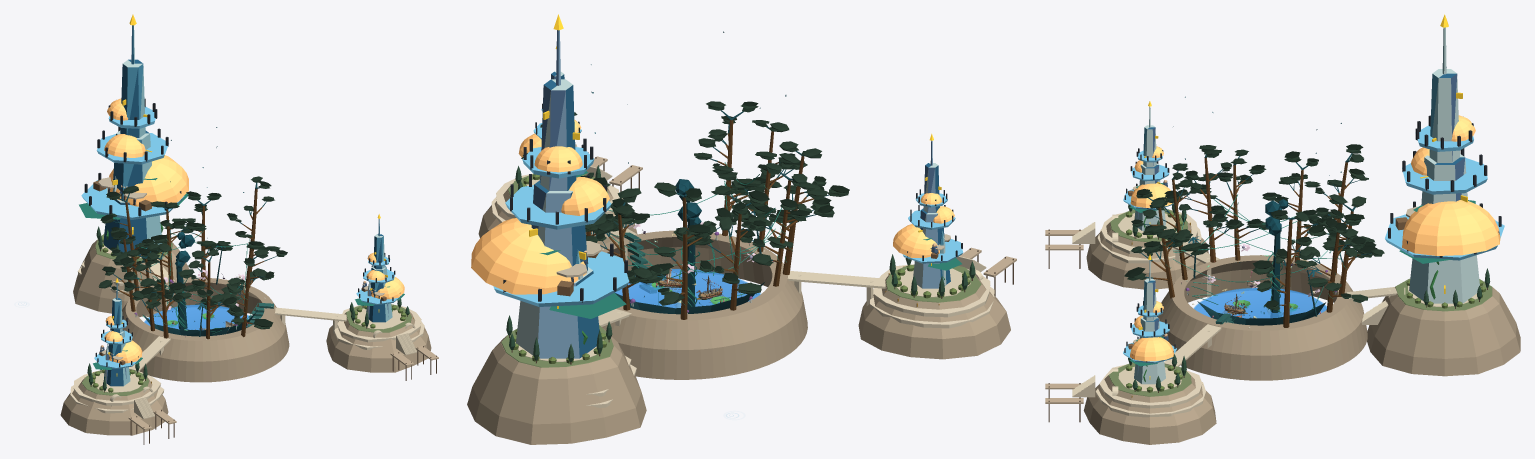
The model's file is crystal-v7-r03.glb.
3 renders of one model, left to right at view 1: azimuth 30°, elevation 25°; view 2: azimuth 150°, elevation 25°; view 3: azimuth 270°, elevation 25°, orthographic. The views are drawn at different scales.
Visible parts, largest first — view 1: swamp-outer-embankment, moebius-grand-community-tower, bank-rock-1, bank-rock-2, bank-rock-0, neon-dome-shell, swamp-towering-tree, swamp-towering-tree.001, swamp-towering-tree.002, swamp-underground-waterline, swamp-towering-tree.003, crystal-view-platform (+24 smaller); view 2: swamp-outer-embankment, bank-rock-0, moebius-grand-community-tower, bank-rock-1, neon-dome-shell, swamp-towering-tree.005, swamp-towering-tree.003, crystal-view-platform, swamp-towering-tree.004, swamp-towering-tree, swamp-towering-tree.006, swamp-towering-tree.002 (+20 smaller); view 3: swamp-outer-embankment, bank-rock-0, moebius-grand-community-tower, bank-rock-2, neon-dome-shell, bank-rock-1, swamp-underground-waterline, swamp-towering-tree.008, swamp-towering-tree, swamp-towering-tree.007, swamp-towering-tree.006, swamp-towering-tree.003 (+23 smaller).
Boxes of the visible parts, box(x1,y1,x2,y2) form: swamp-outer-embankment: box(122, 277, 289, 382); moebius-grand-community-tower: box(79, 14, 188, 255); bank-rock-1: box(60, 377, 168, 435); bank-rock-2: box(326, 312, 431, 372); bank-rock-0: box(73, 239, 191, 316); neon-dome-shell: box(107, 155, 188, 206); swamp-towering-tree: box(220, 249, 274, 337); swamp-towering-tree.001: box(178, 249, 239, 339); swamp-towering-tree.002: box(135, 243, 196, 338); swamp-underground-waterline: box(144, 304, 252, 330); swamp-towering-tree.003: box(120, 243, 185, 331); crystal-view-platform: box(81, 180, 184, 219); swamp-outer-embankment: box(600, 230, 807, 379); bank-rock-0: box(467, 327, 646, 444); moebius-grand-community-tower: box(516, 14, 626, 358); bank-rock-1: box(858, 273, 1010, 359); neon-dome-shell: box(471, 218, 586, 294); swamp-towering-tree.005: box(633, 182, 732, 319); swamp-towering-tree.003: box(735, 163, 834, 286); crystal-view-platform: box(493, 251, 629, 306); swamp-towering-tree.004: box(690, 190, 772, 310); swamp-towering-tree: box(694, 101, 781, 236); swamp-towering-tree.006: box(586, 188, 673, 310); swamp-towering-tree.002: box(741, 141, 849, 274); swamp-outer-embankment: box(1158, 255, 1367, 380); bank-rock-0: box(1367, 287, 1520, 376); moebius-grand-community-tower: box(1399, 14, 1479, 303); bank-rock-2: box(1083, 375, 1216, 444); neon-dome-shell: box(1402, 200, 1500, 255); bank-rock-1: box(1086, 222, 1208, 289); swamp-underground-waterline: box(1194, 287, 1326, 318); swamp-towering-tree.008: box(1252, 210, 1317, 327); swamp-towering-tree: box(1124, 189, 1192, 298); swamp-towering-tree.007: box(1295, 213, 1367, 312); swamp-towering-tree.006: box(1308, 194, 1384, 295); swamp-towering-tree.003: box(1196, 149, 1268, 262).
Size of what is drawn, in the model's own units: 116 by 92.52 by 111.
